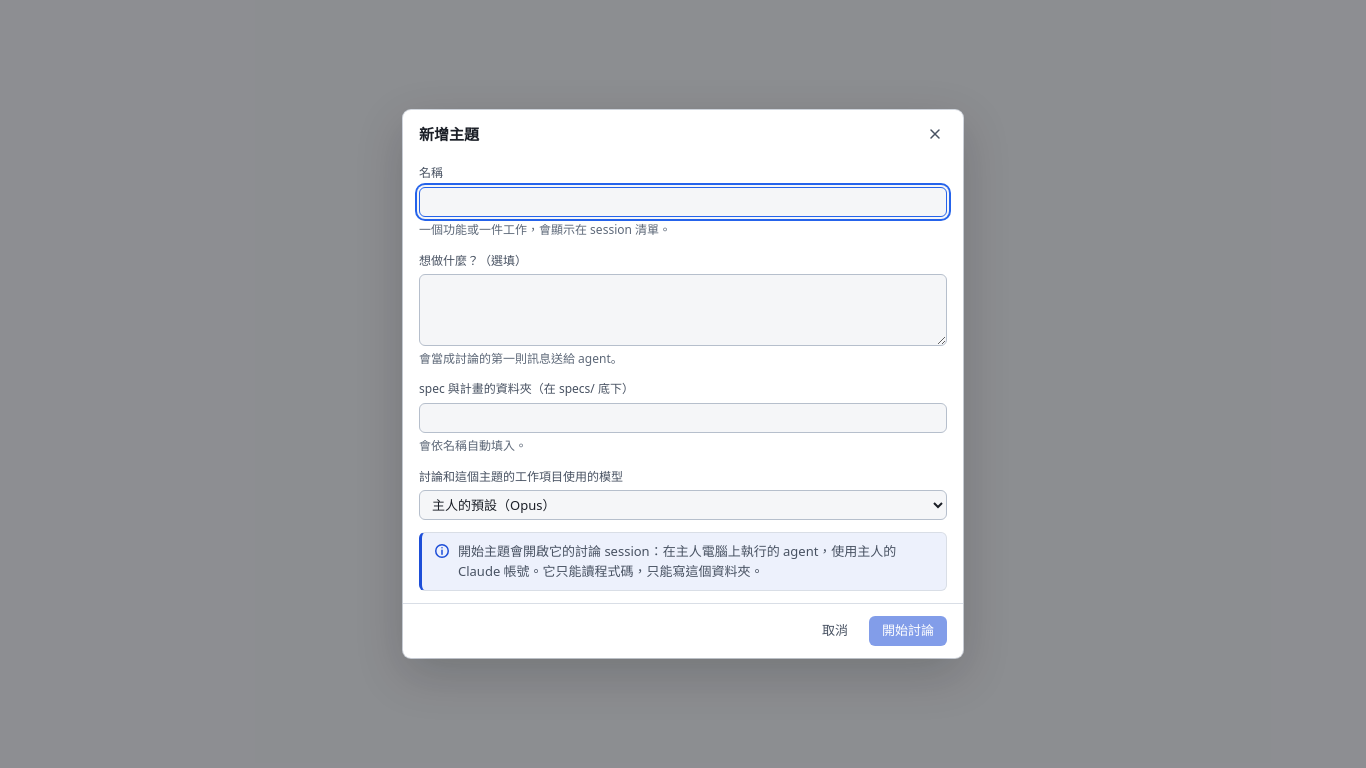
Scenario: the topic screens in zh-TW › the New topic dialog: a Chinese name keeps its name and gets a Latin folder
Check: the dropdown labelled "討論和這個主題的工作項目使用的模型" is shown, box [419,490,947,520]
Type "結帳流程改版" into the field labelled "名稱". click: [683, 202]
box: [419,187,947,217]
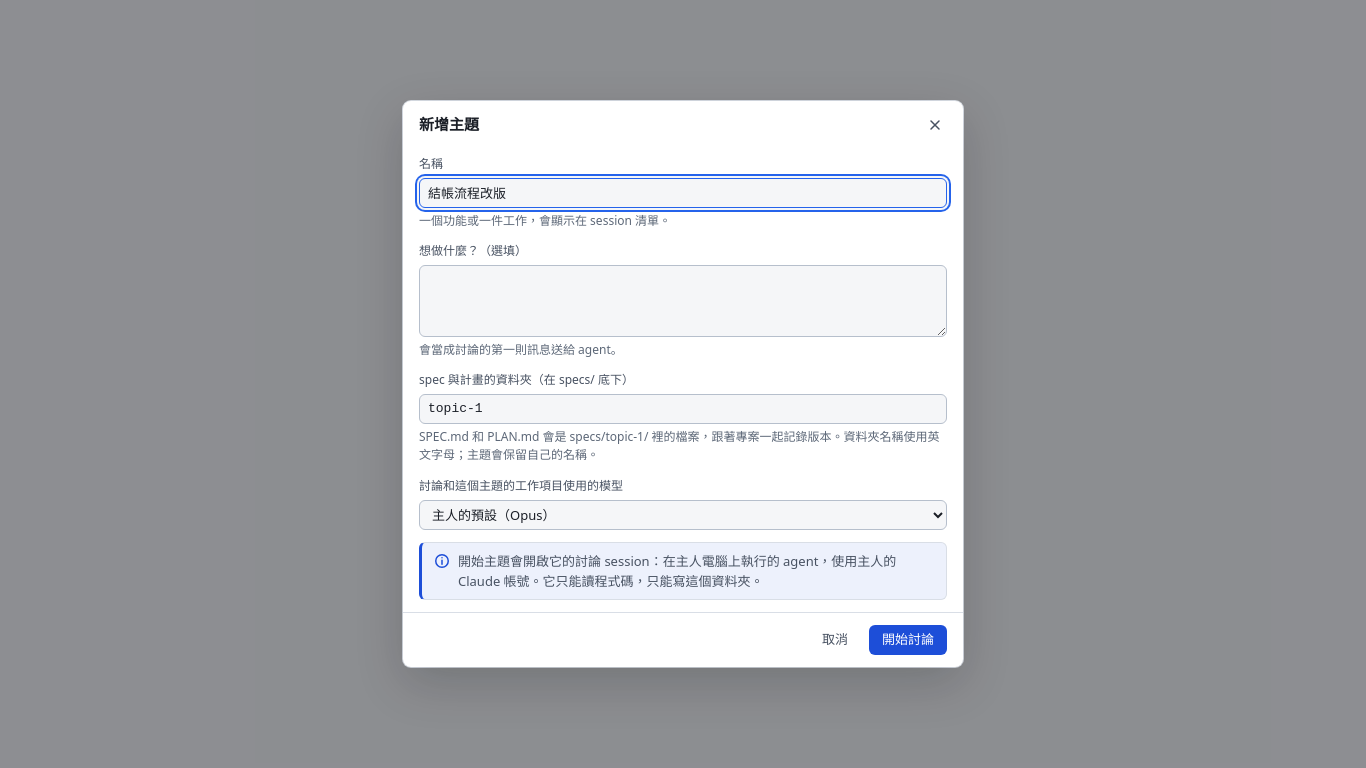
Check: the text "開始主題會開啟它的討論 session" is shown, box [458,552,896,590]
Check: the field labelled "spec 與計畫的資料夾（在 specs/ 底下）" holds "topic-1", box [419,394,947,424]
Check: the text "資料夾名稱使用英文字母；主題會保留自己的名稱。" is shown, box [419,428,940,463]
Click the button "開始討論". click: [908, 640]
box: [869,625,947,655]
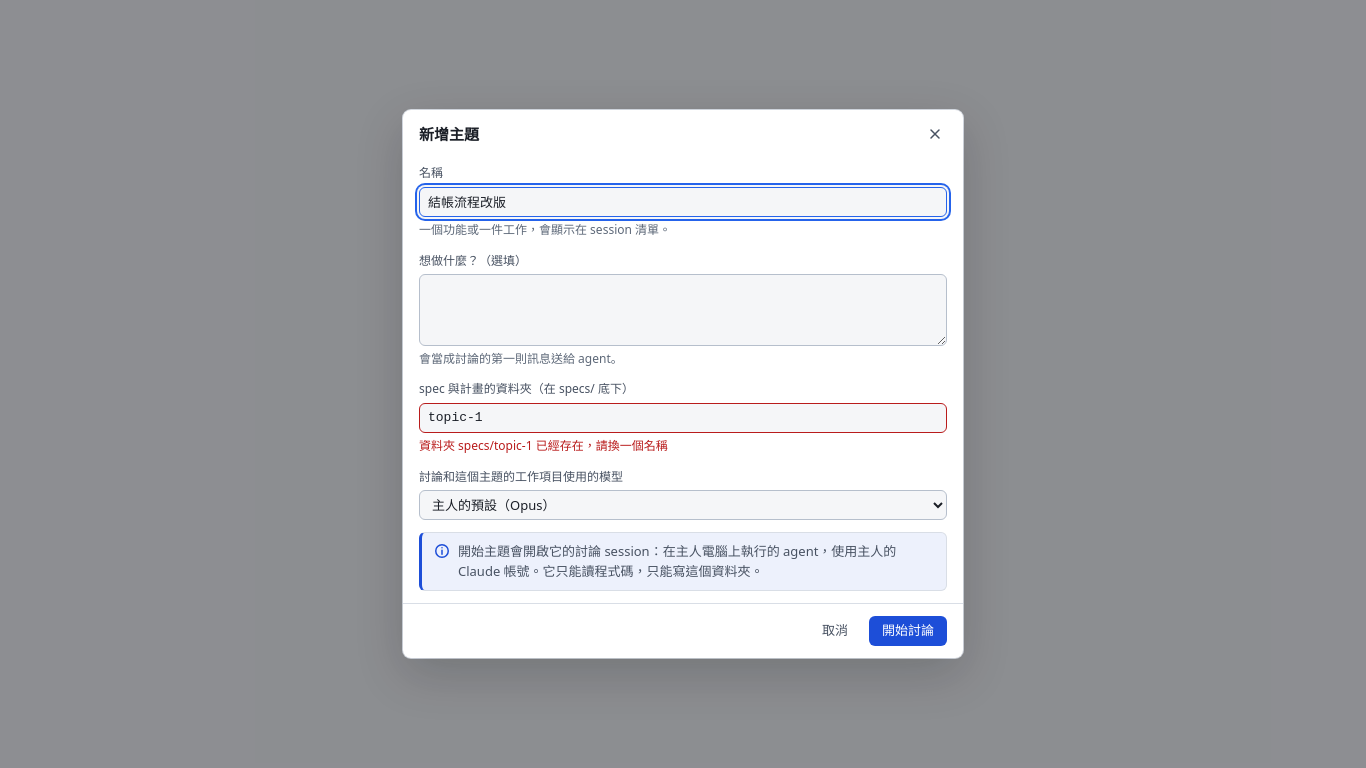
Check: the text "資料夾 specs/topic-1 已經存在，請換一個名稱" is shown, box [419,437,668,454]
